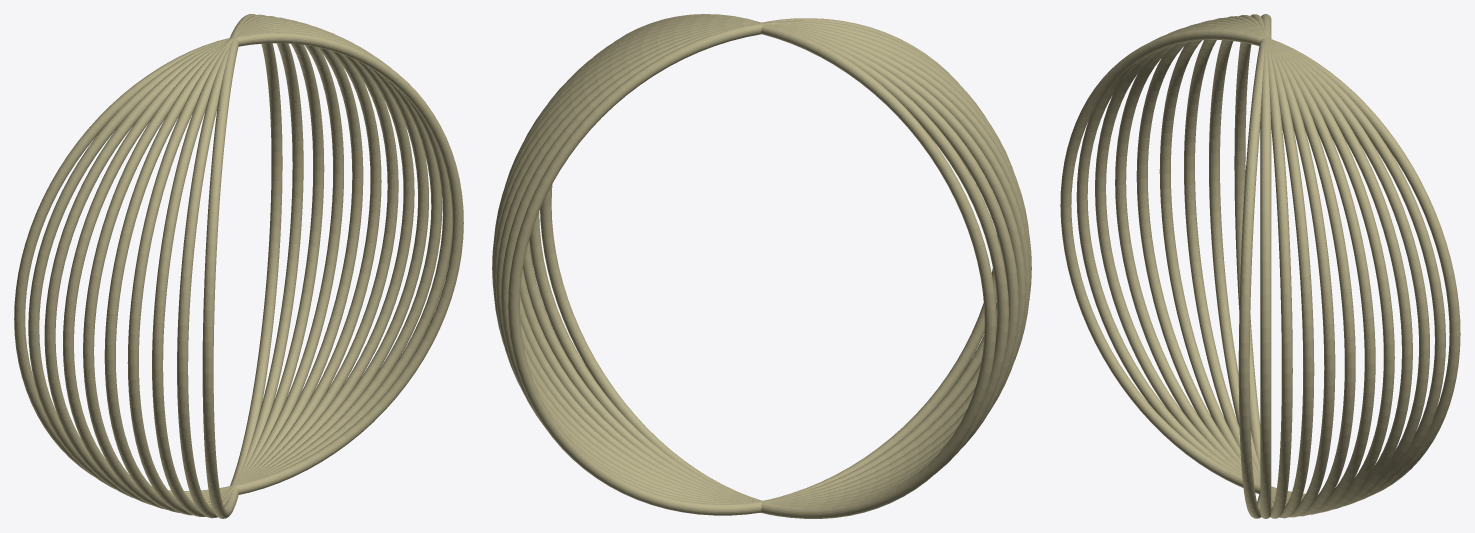
The picture shows the model from 3 angles, left to right: view 1: azimuth 30°, elevation 25°; view 2: azimuth 150°, elevation 25°; view 3: azimuth 270°, elevation 25°; orthographic projection. The views are drawn at different scales.
Visible parts, largest first — view 1: Torus021, Torus009, Torus005, Torus007, Torus006, Torus004, Torus003, Torus008, Torus002, Torus001, Torus010, Torus015 (+10 smaller); view 2: Torus010, Torus, Torus001, Torus002, Torus003, Torus021, Torus011, Torus020, Torus004, Torus012, Torus019, Torus009 (+10 smaller); view 3: Torus009, Torus021, Torus016, Torus015, Torus014, Torus017, Torus020, Torus013, Torus019, Torus006, Torus018, Torus007 (+9 smaller).
Boxes of the visible parts, x1,y1,x2,y2 form: Torus021: (235, 32, 463, 494); Torus009: (202, 38, 239, 518); Torus005: (104, 41, 229, 512); Torus007: (152, 43, 235, 516); Torus006: (127, 37, 234, 515); Torus004: (83, 43, 228, 509); Torus003: (63, 39, 228, 504); Torus008: (177, 47, 231, 518); Torus002: (44, 42, 227, 498); Torus001: (28, 37, 231, 495); Torus010: (230, 14, 282, 487); Torus015: (229, 20, 381, 488); Torus010: (508, 23, 765, 515); Torus: (761, 26, 996, 518); Torus001: (762, 24, 1008, 507); Torus002: (771, 26, 1018, 505); Torus003: (769, 24, 1025, 503); Torus021: (540, 14, 762, 500); Torus011: (501, 23, 759, 503); Torus020: (529, 16, 769, 506); Torus004: (771, 24, 1030, 502); Torus012: (496, 23, 756, 502); Torus019: (523, 17, 769, 503); Torus009: (759, 18, 999, 512); Torus009: (1060, 29, 1263, 493); Torus021: (1238, 40, 1264, 518); Torus016: (1266, 40, 1355, 516); Torus015: (1263, 38, 1375, 514); Torus014: (1262, 38, 1394, 512); Torus017: (1265, 39, 1335, 517); Torus020: (1260, 39, 1271, 518); Torus013: (1269, 41, 1412, 509); Torus019: (1263, 39, 1292, 518); Torus006: (1115, 21, 1266, 480); Torus018: (1266, 42, 1314, 518); Torus007: (1095, 24, 1260, 483).
Size of the model in its own units: 2.61 by 2.61 by 2.07.
